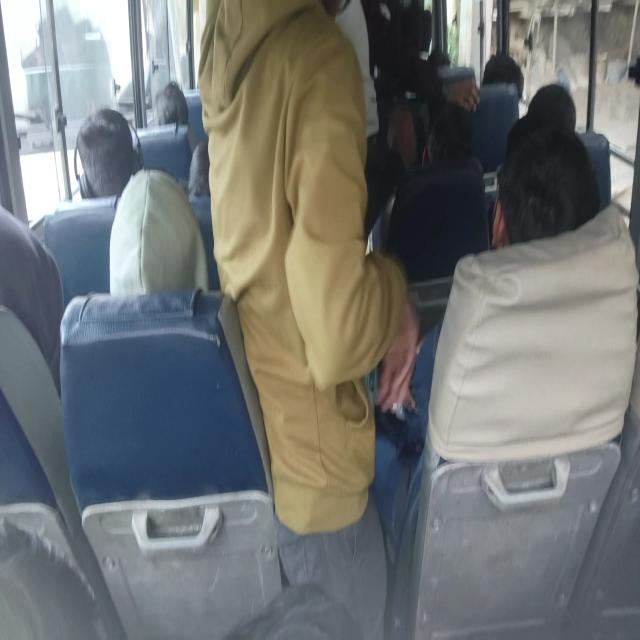person: (206, 0, 368, 394), (122, 178, 218, 308), (505, 128, 592, 253), (0, 540, 106, 640), (226, 590, 436, 640), (0, 245, 71, 383), (326, 0, 383, 118), (82, 109, 140, 192), (381, 0, 435, 72), (186, 143, 241, 209), (482, 49, 538, 111), (428, 112, 477, 180), (530, 85, 576, 144), (150, 83, 190, 133)
